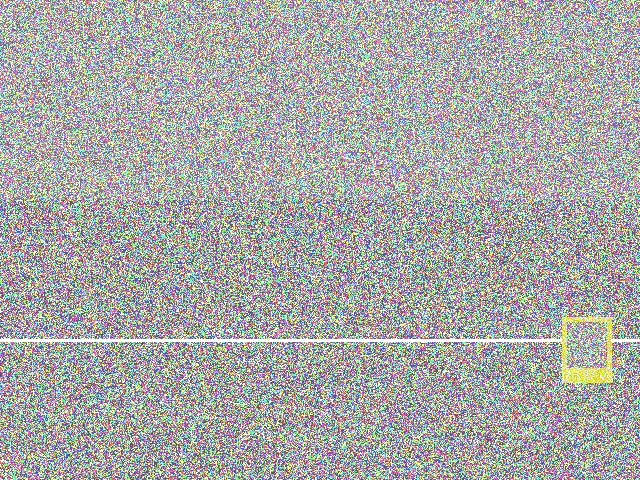bus: (232, 265, 347, 409)
car: (194, 161, 277, 301)
